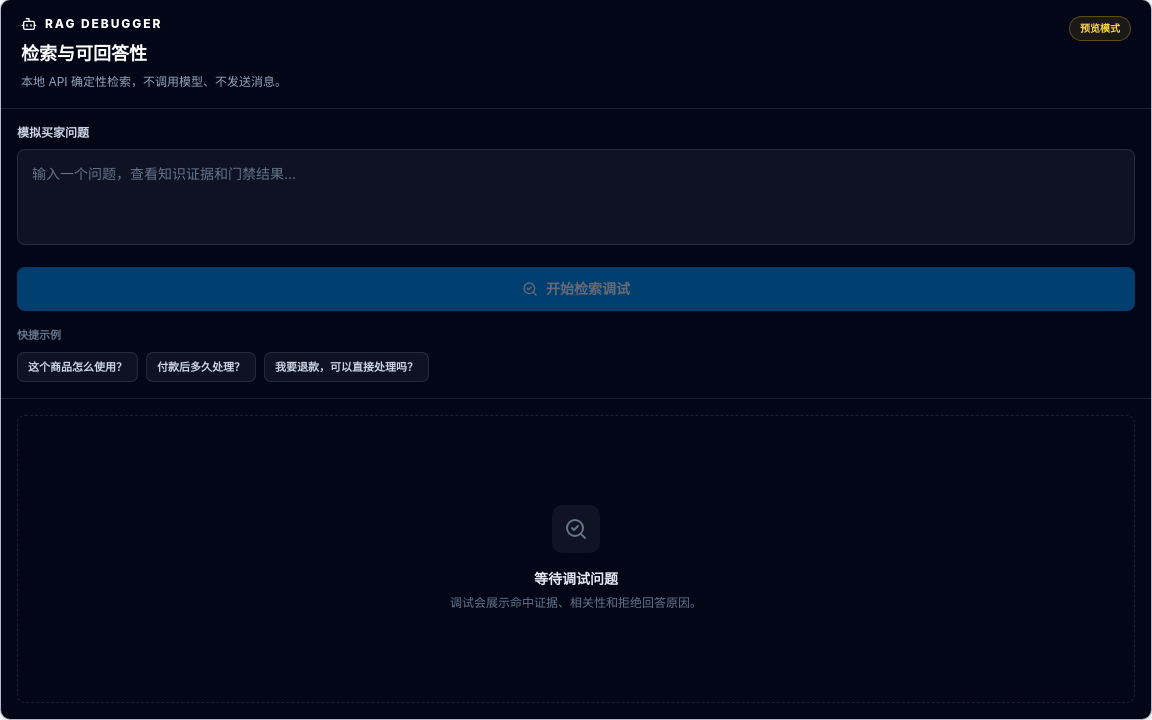
it: KnowledgePreview 本地 API 交互 › 快捷问题通过后端检索并显示候选与引用
The image size is (1152, 720).
(page scrolled)
Click the button "这个商品怎么使用？": (78, 367) left=17, top=352, right=138, bottom=382
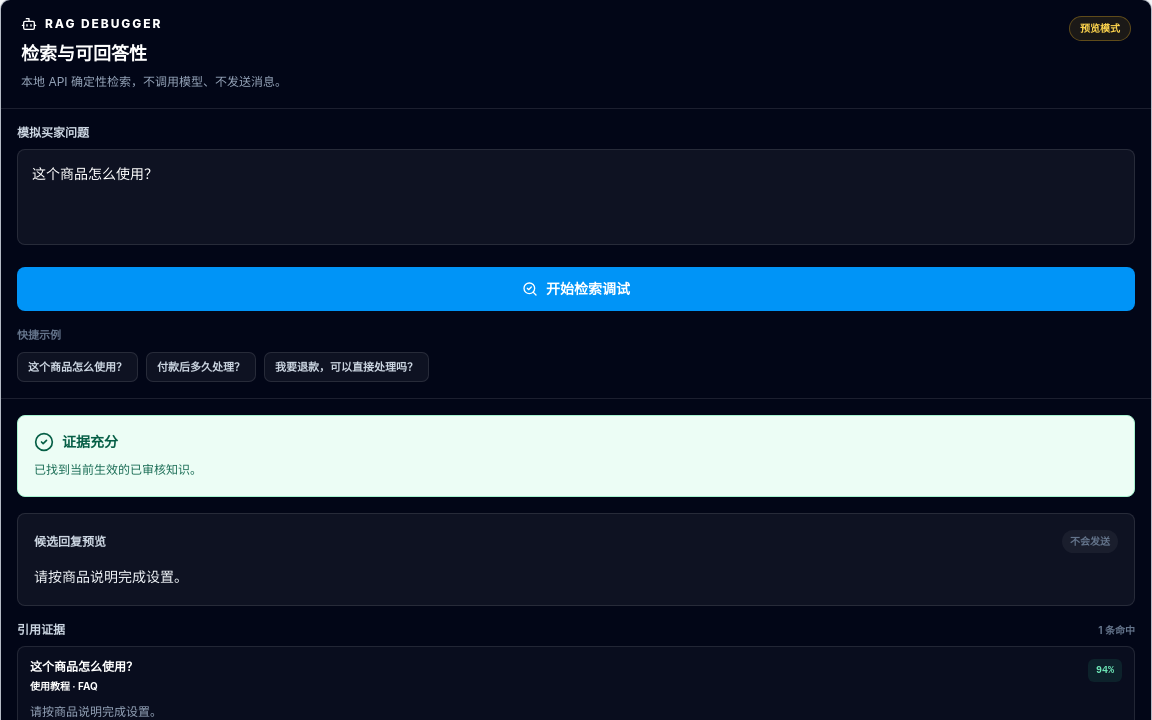
Expected: the text "证据充分" is shown, left=34, top=432, right=118, bottom=452
Expected: the heading "候选回复预览" is shown, left=34, top=534, right=106, bottom=550
Expected: the text "1 条命中" is shown, left=1098, top=622, right=1135, bottom=638
